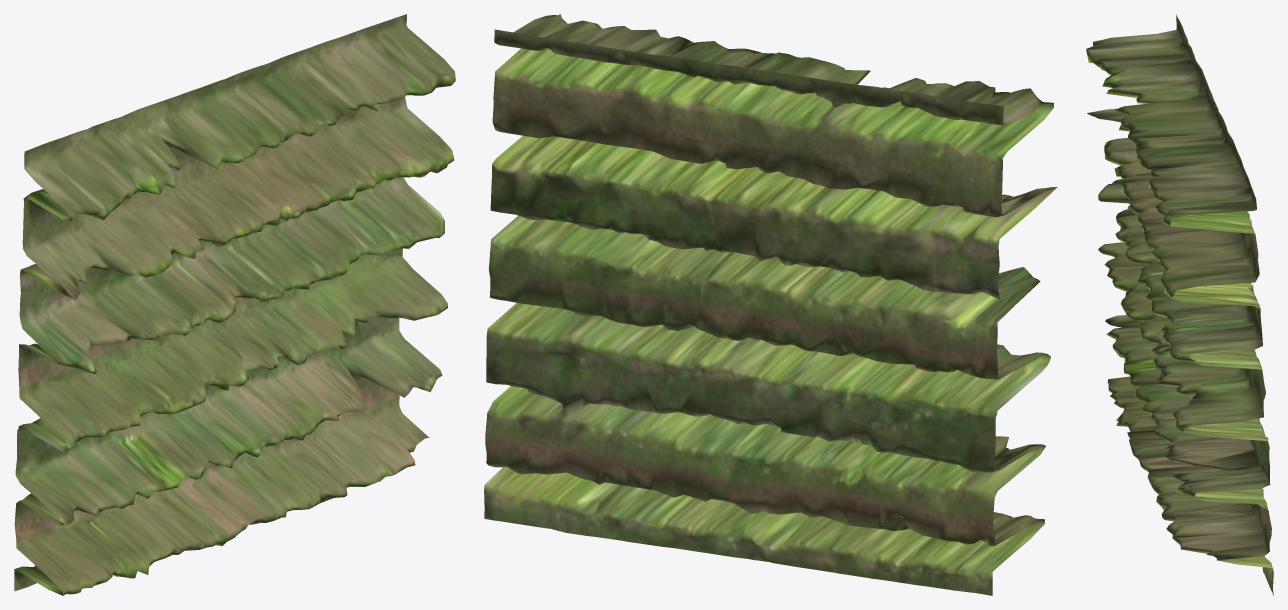
Rendered from map_240_40.obj.
3 views of the same model, side by side, from view 1: azimuth 30°, elevation 25°; view 2: azimuth 150°, elevation 25°; view 3: azimuth 270°, elevation 25° (orthographic). The views are drawn at different scales.
Parts seen in each view (by area): view 1: map_240_40.obj; view 2: map_240_40.obj; view 3: map_240_40.obj.
Boxes of the visible parts, bbox=[...] form: map_240_40.obj: bbox=[14, 14, 455, 595]; map_240_40.obj: bbox=[484, 14, 1057, 595]; map_240_40.obj: bbox=[1086, 14, 1273, 595].
Bounding box in the file's own units: 10 × 10 × 4.29.
1 material, 1 textured.
